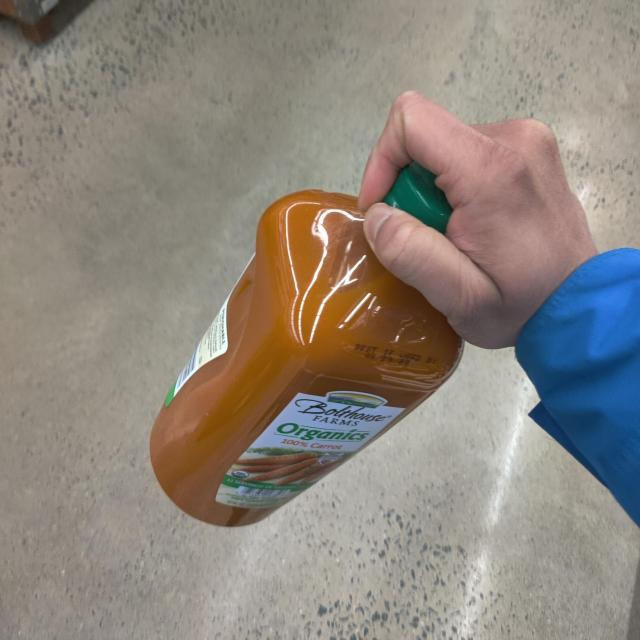Juice: (144, 152, 478, 552)
